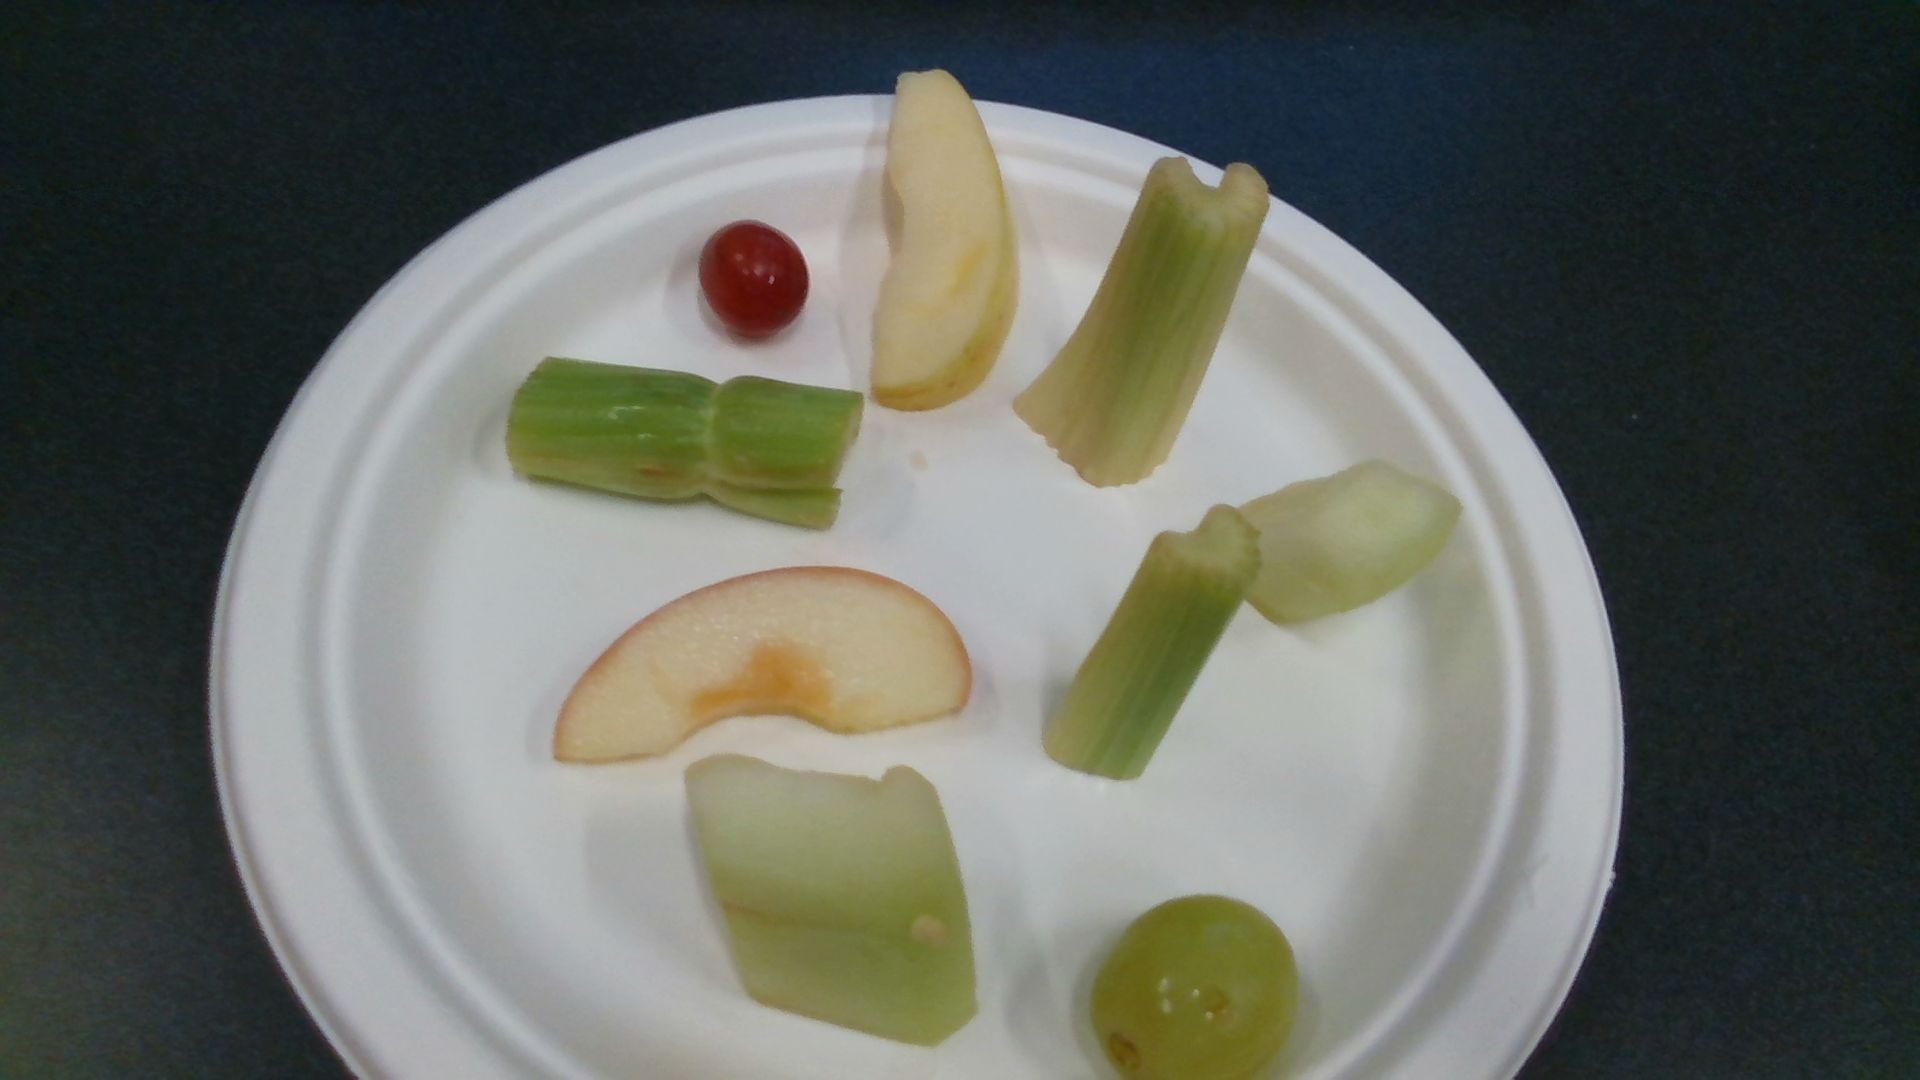apple: (554, 566, 969, 758), (870, 70, 1015, 411)
cantalope: (684, 753, 978, 1048), (1218, 465, 1458, 620)
celery: (1017, 158, 1273, 485), (1039, 506, 1261, 781), (506, 360, 865, 527)
grape_green: (1092, 898, 1299, 1080)
grape_purple: (700, 223, 808, 336)
